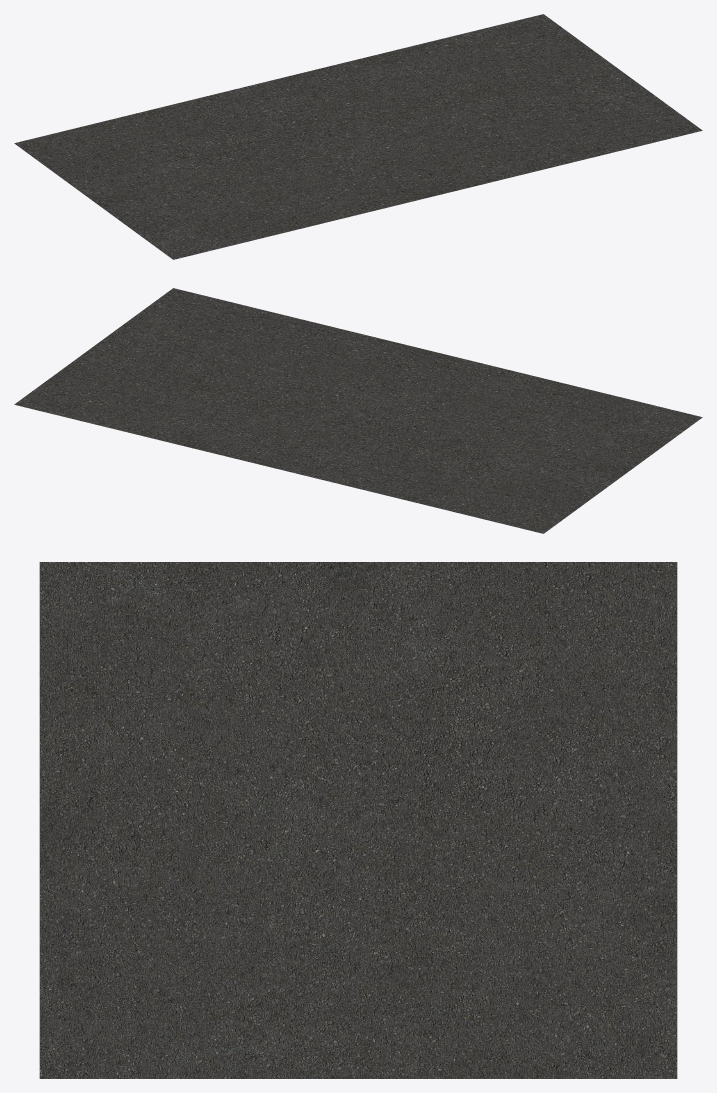
3 views of the same model, one above another, from view 1: azimuth 30°, elevation 25°; view 2: azimuth 150°, elevation 25°; view 3: azimuth 270°, elevation 25° (orthographic). The views are drawn at different scales.
Parts seen in each view (by area): view 1: Plane001; view 2: Plane001; view 3: Plane001.
Boxes of the visible parts, <box> form: Plane001: <box>14,14,702,259</box>; Plane001: <box>14,288,702,533</box>; Plane001: <box>39,562,677,1078</box>.
Bounding box in the file's own units: 154 × 4.93e-15 × 80.51.
Materials: 1 (1 with a texture image).
